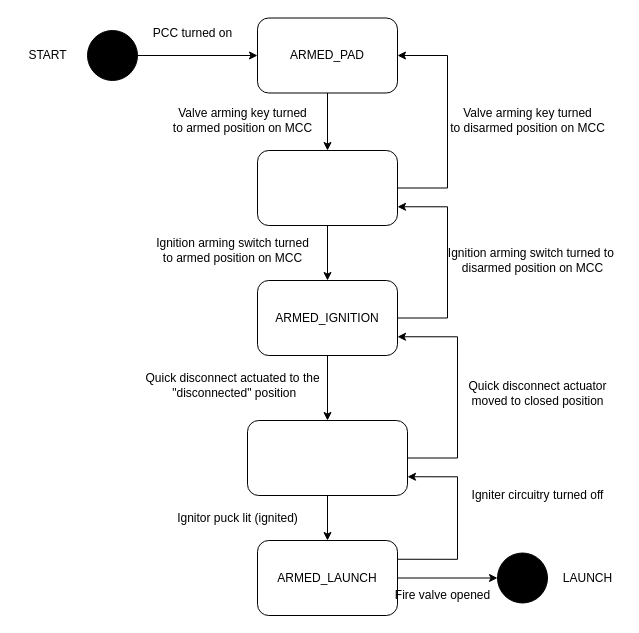
The diagram is 639 pixels wide and 633 high, and some of its shapes have lost their labels. Each missing label, with the box of its shape:
ARMED_DISCONNECTED: (246, 420, 408, 496)
ARMED_VALVES: (256, 150, 398, 226)
